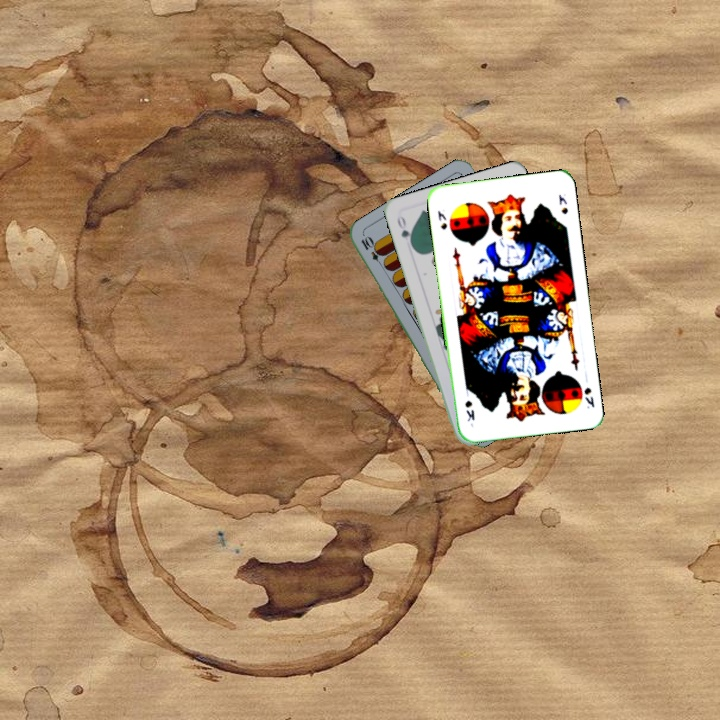E10: (357, 232, 387, 270)
GO: (393, 212, 416, 250)
SK: (580, 383, 597, 411), (434, 207, 450, 232)
